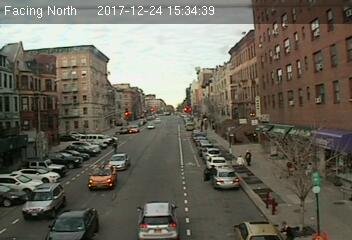car: (137, 201, 182, 240), (46, 209, 99, 240), (22, 183, 63, 219), (232, 220, 287, 240), (88, 161, 117, 189), (210, 165, 239, 187), (108, 154, 130, 171)
pedestrian: (245, 149, 252, 166)
